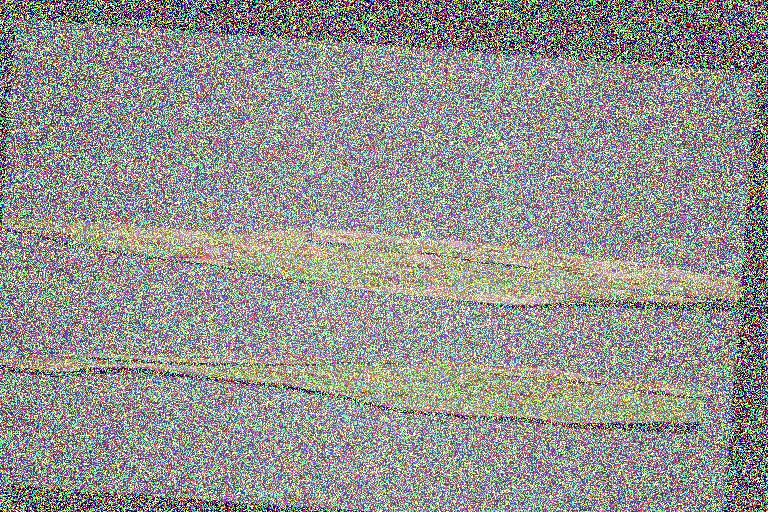Leaf_Blast: (24, 223, 732, 297), (38, 341, 697, 386)
